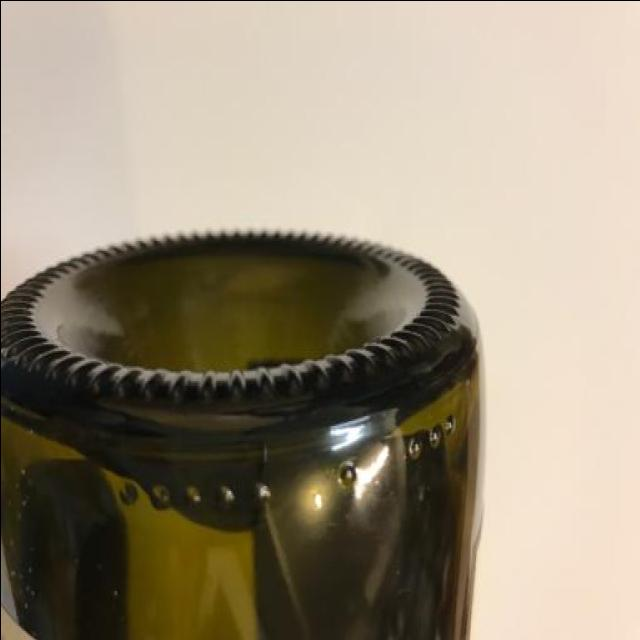glass: (0, 216, 503, 640)
